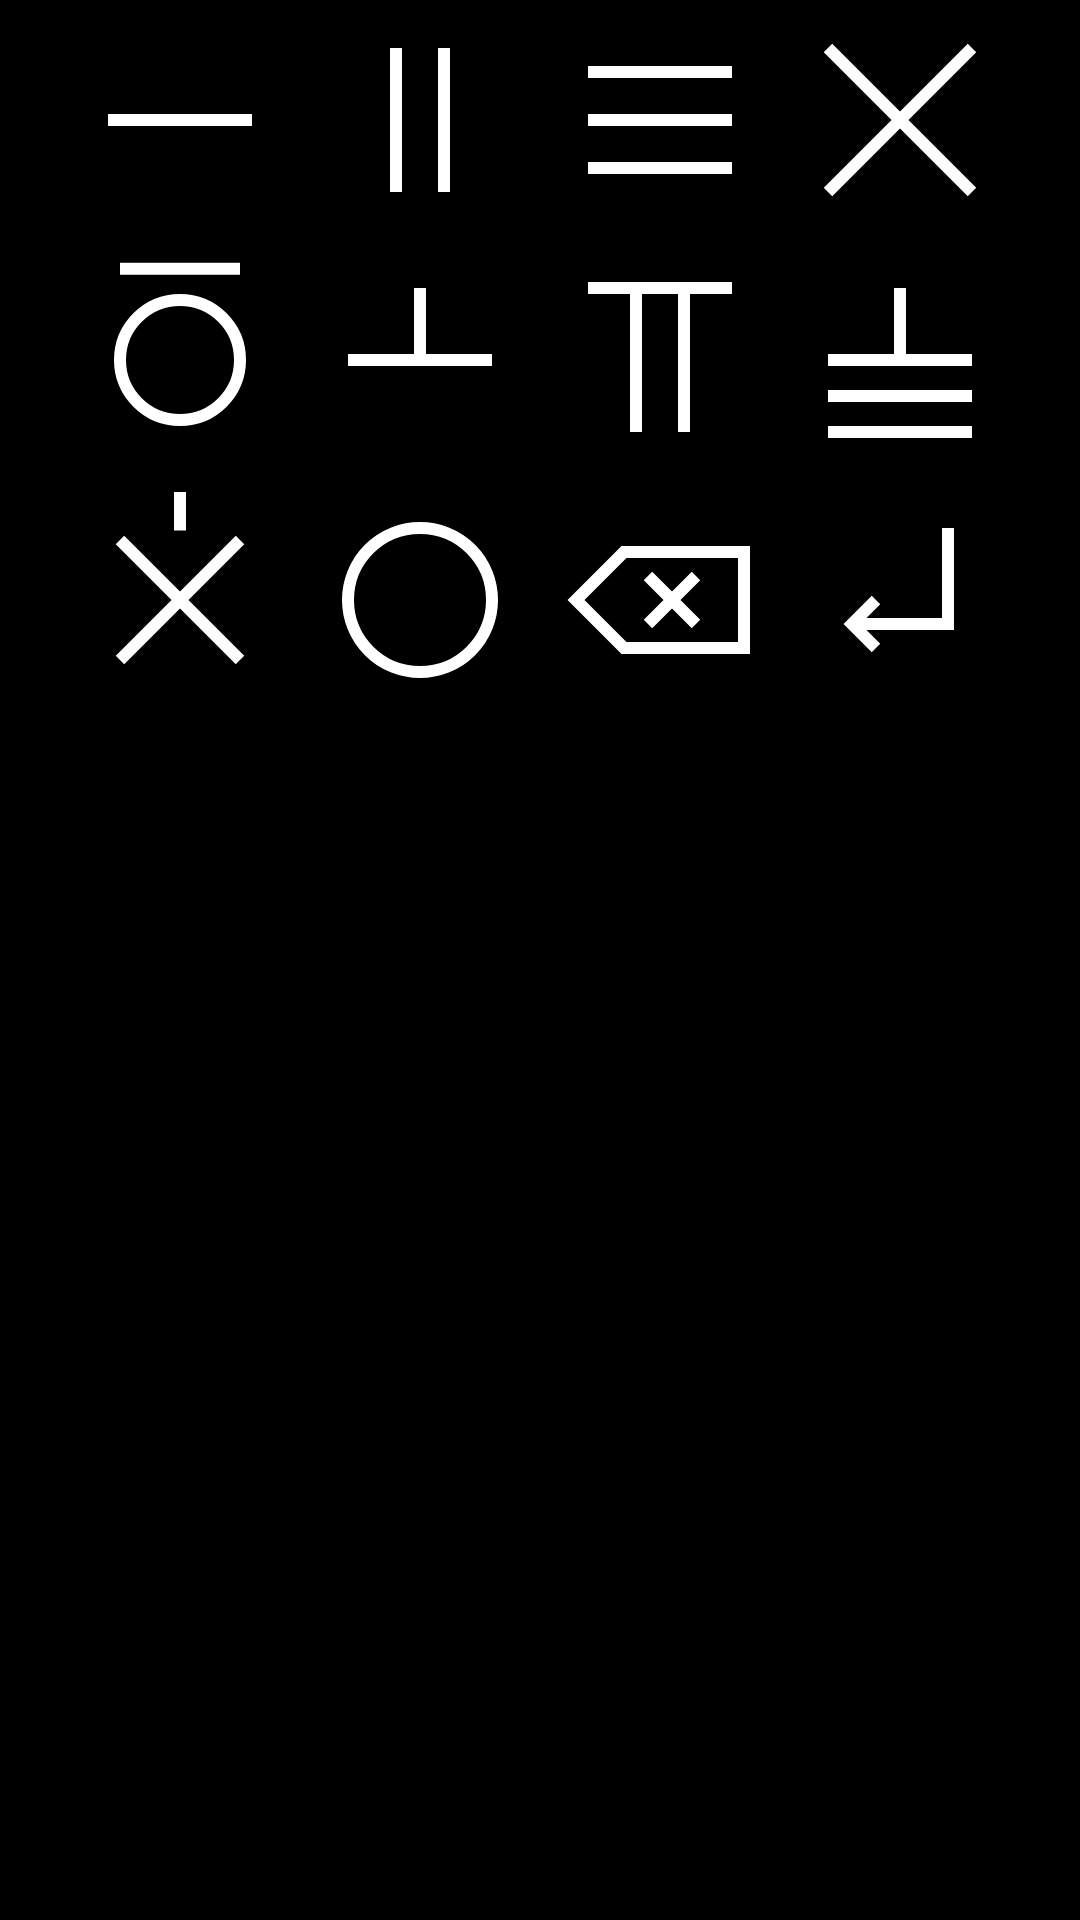

Icons on this 1080px x 1920px Android screen, each with its box as (x1, y1, x2, y2):
deletekey: (567, 546, 750, 654)
enterkey: (843, 528, 954, 652)
five vertical: (114, 262, 246, 426)
three horizontal: (588, 66, 732, 174)
two vertical: (390, 48, 450, 192)
zero: (342, 522, 498, 678)
